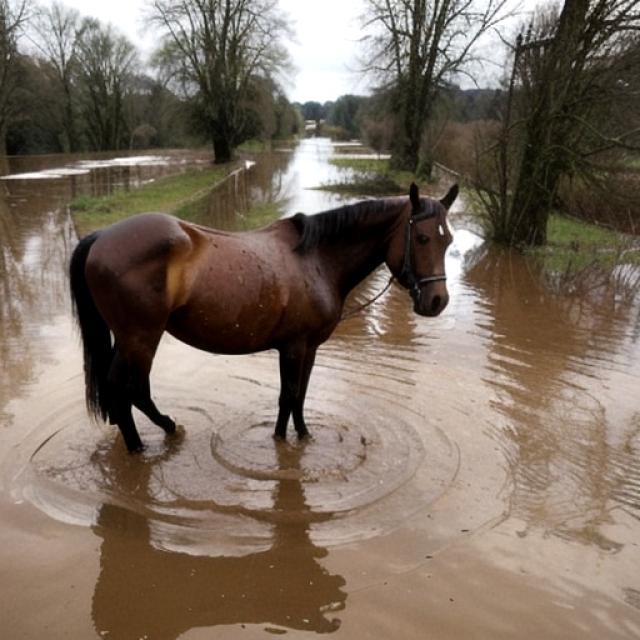horse: (50, 175, 480, 463)
